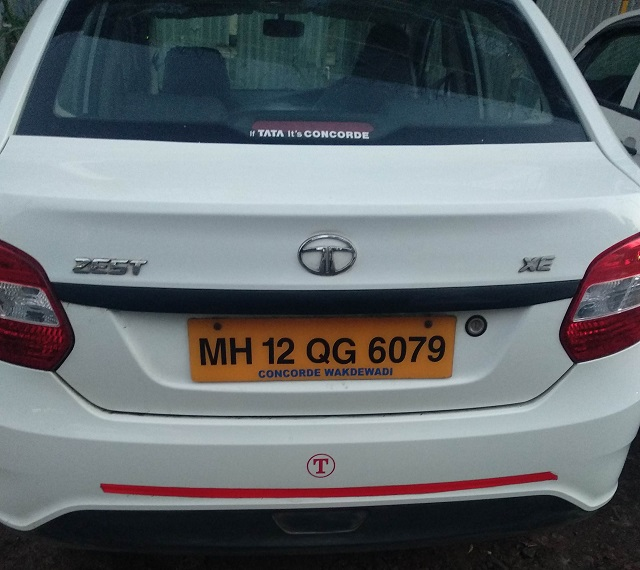licenseplate: (183, 313, 460, 385)
